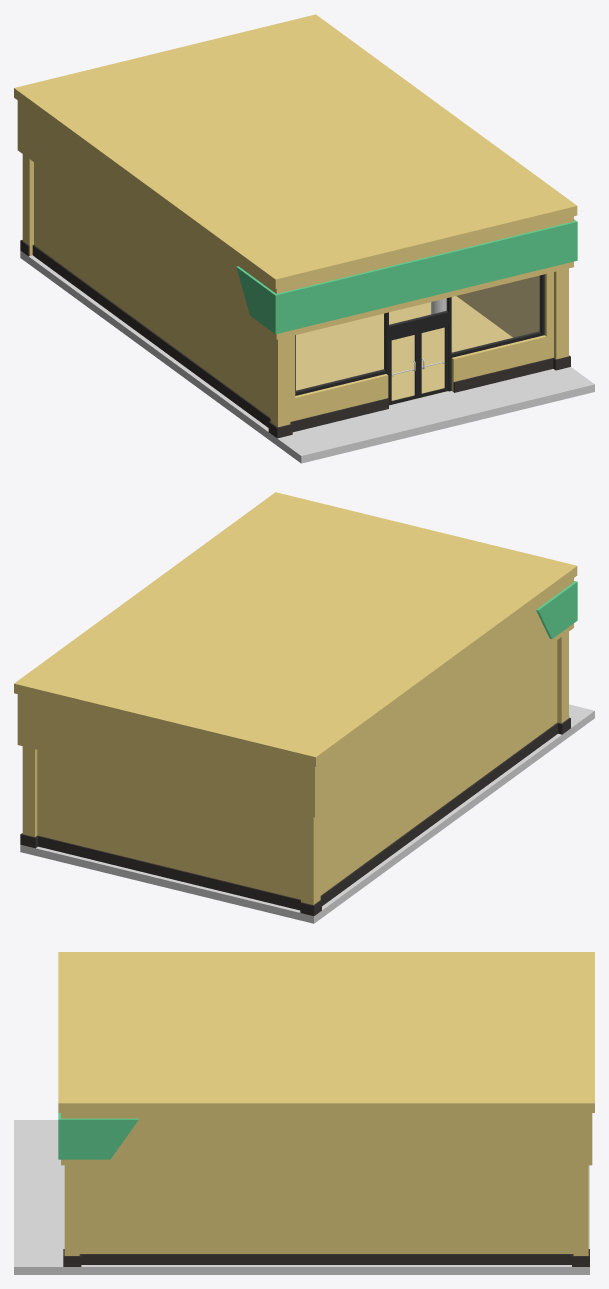
File: Convenience-store.fbx
3 views of the same model, one above another, from view 1: azimuth 30°, elevation 25°; view 2: azimuth 150°, elevation 25°; view 3: azimuth 270°, elevation 25° (orthographic). The views are drawn at different scales.
Parts seen in each view (by area): view 1: Cube, Cube.001, Cube.010, Cube.006, Cube.009, Cube.005, Cube.002, Cube.007, Cube.008, Cube.004, Cube.003; view 2: Cube, Cube.010, Cube.005, Cube.001; view 3: Cube, Cube.010, Cube.005, Cube.001.
Boxes of the visible parts, bbox=[...] form: Cube: bbox=[14, 14, 577, 427]; Cube.001: bbox=[236, 219, 577, 334]; Cube.010: bbox=[20, 250, 594, 463]; Cube.006: bbox=[296, 276, 539, 390]; Cube.009: bbox=[296, 296, 512, 402]; Cube.005: bbox=[20, 240, 570, 438]; Cube.002: bbox=[295, 274, 544, 398]; Cube.007: bbox=[392, 335, 414, 400]; Cube.008: bbox=[422, 328, 444, 393]; Cube.004: bbox=[418, 323, 448, 397]; Cube.003: bbox=[389, 331, 418, 405]; Cube: bbox=[14, 492, 577, 904]; Cube.010: bbox=[20, 704, 594, 923]; Cube.005: bbox=[20, 717, 570, 915]; Cube.001: bbox=[536, 581, 577, 638]; Cube: bbox=[58, 952, 594, 1255]; Cube.010: bbox=[14, 1120, 589, 1274]; Cube.005: bbox=[63, 1249, 589, 1266]; Cube.001: bbox=[58, 1113, 138, 1159].
Size of the model in its own units: 1107 by 593 by 1797.
